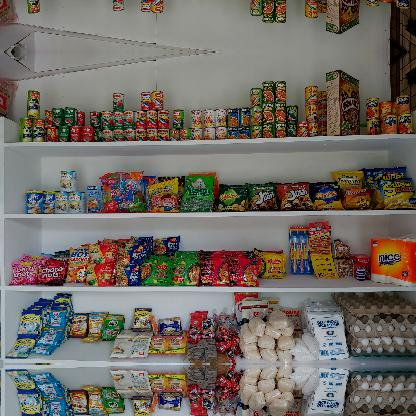Koko-Krunch: (326, 68, 360, 136), (326, 0, 361, 36)
